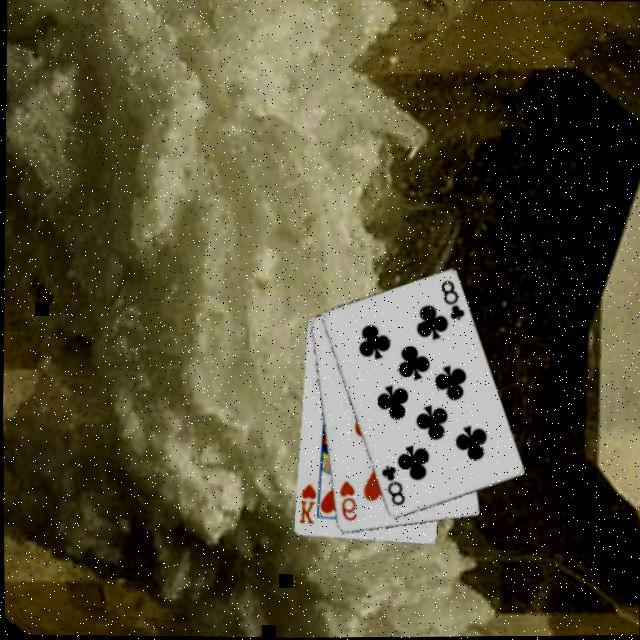6H: (335, 480, 360, 526)
8C: (437, 280, 468, 327), (378, 464, 408, 511)
KH: (295, 482, 318, 528)
